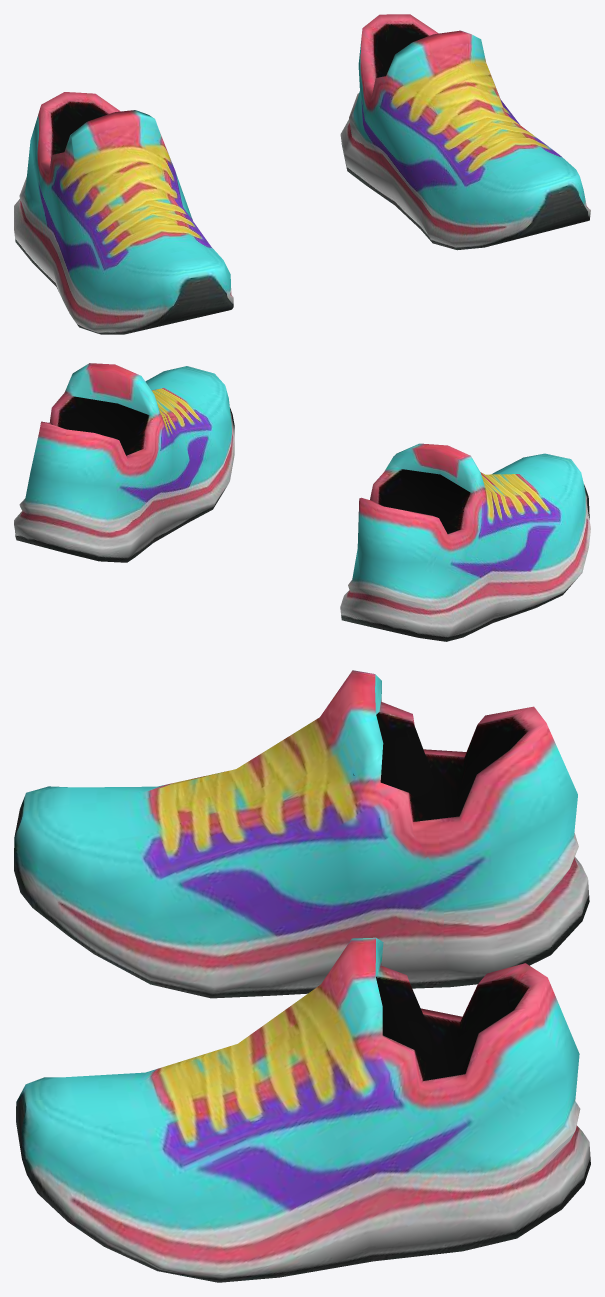
The model's file is Shoes1_Women.glb.
3 renders of one model, top to bottom at view 1: azimuth 30°, elevation 25°; view 2: azimuth 150°, elevation 25°; view 3: azimuth 270°, elevation 25°, orthographic. The views are drawn at different scales.
Parts seen in each view (by area): view 1: Wolf3D_Outfit_Footwear; view 2: Wolf3D_Outfit_Footwear; view 3: Wolf3D_Outfit_Footwear.
Part boxes in pixels (x1,y1,x2,y2): Wolf3D_Outfit_Footwear: (14, 14, 590, 334); Wolf3D_Outfit_Footwear: (14, 363, 590, 641); Wolf3D_Outfit_Footwear: (14, 670, 590, 1282).
Bounding box in the file's own units: 0.4987 × 0.1572 × 0.3044.
1 material, 1 textured.
